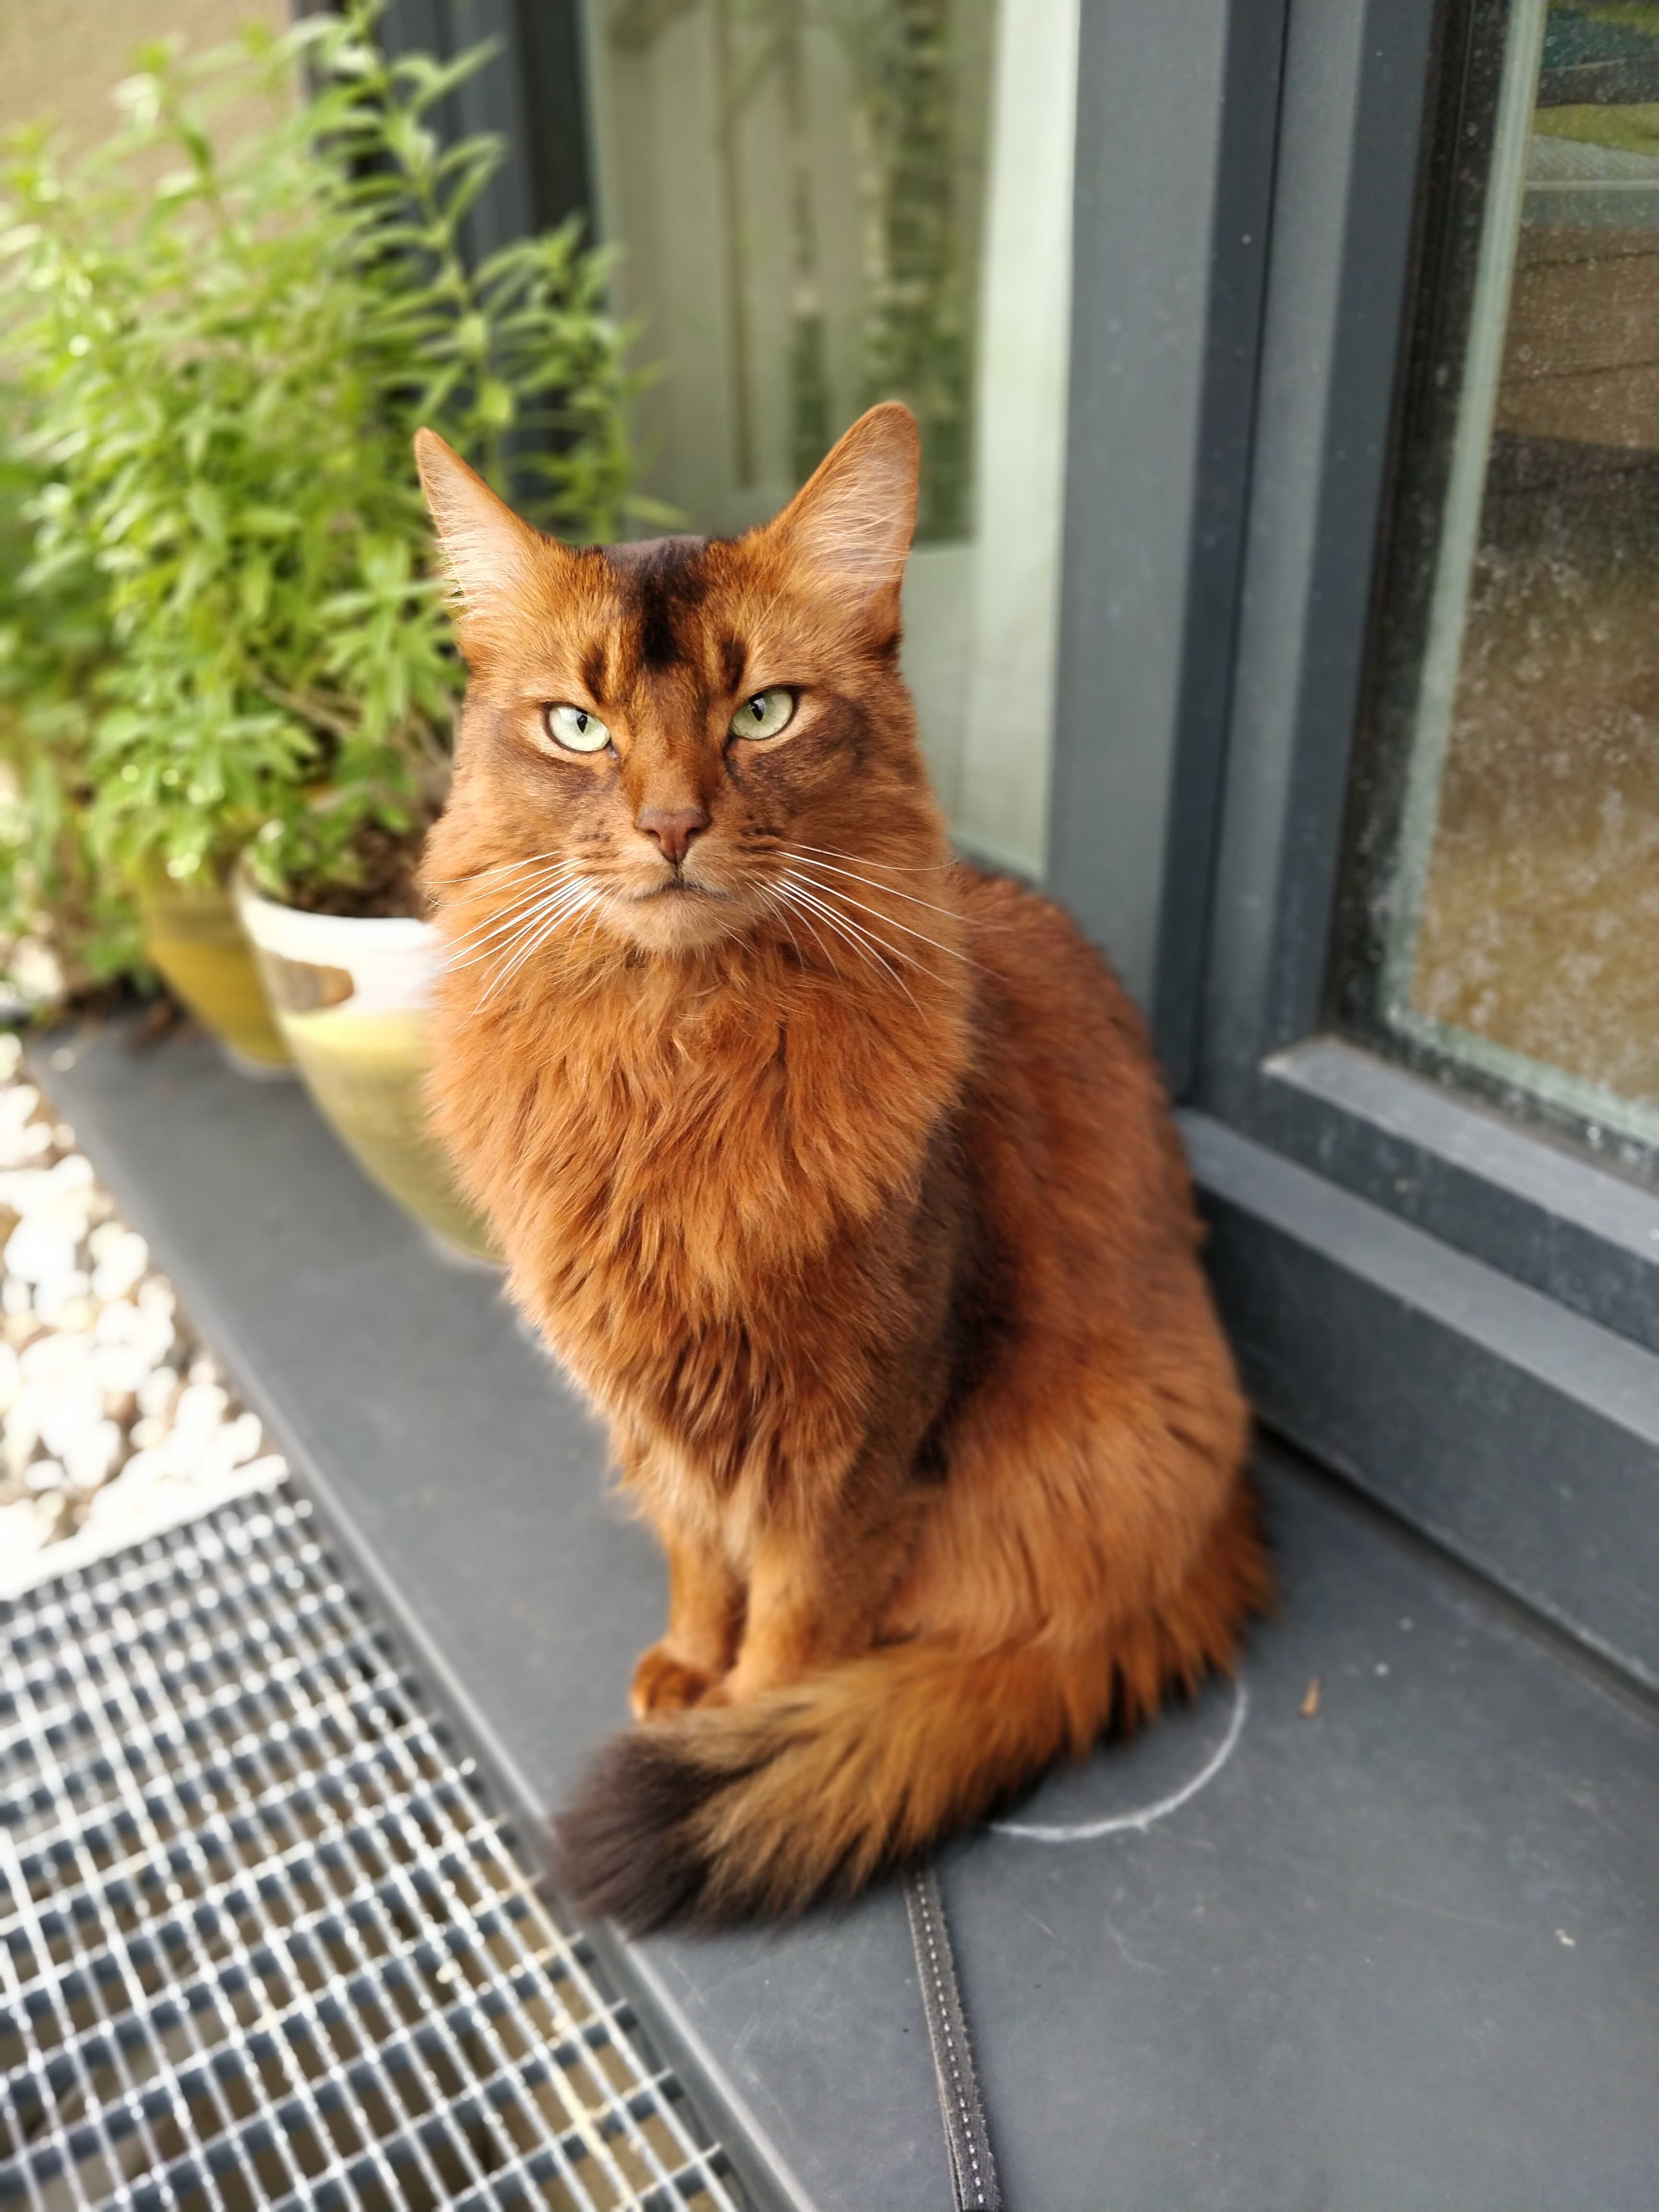cat: (383, 395, 1303, 1946)
cat-face: (387, 402, 978, 1003)
